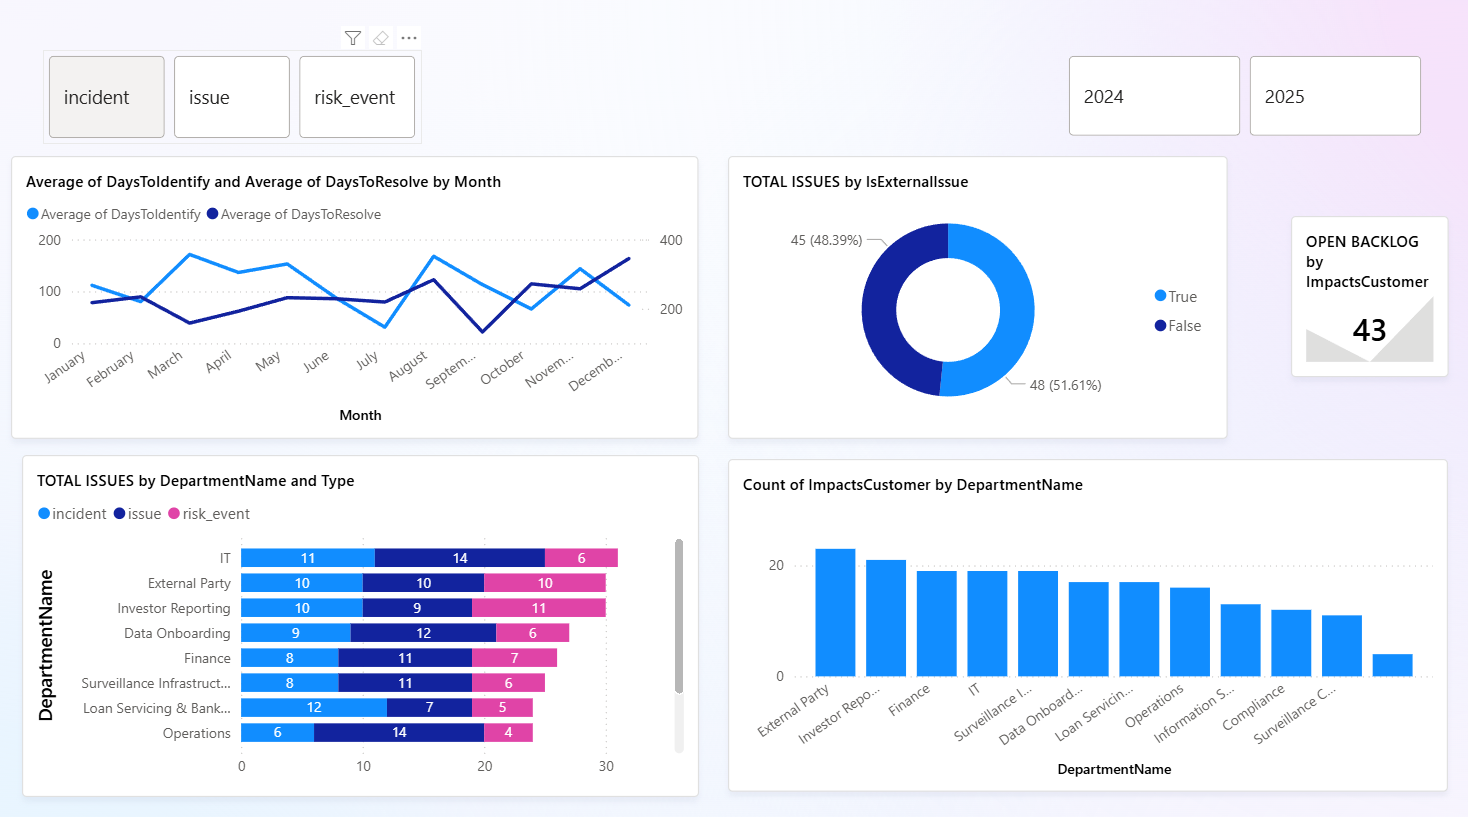

The page's visual inventory and layout, read from the dashboard file:
{"tool":"powerbi","page":{"name":"DEPARTMENTAL OVERVIEW","canvas":[1280,720],"ordinal":1},"visuals":[{"type":"lineChart","fields":{"Category":["fct_Issues.CreatedDate.Variation.Date Hierarchy.Month","fct_Issues.CreatedDate.Variation.Date Hierarchy.Day"],"Y":["Avg(fct_Issues.DaysToIdentify)"],"Y2":["Avg(fct_Issues.DaysToResolve)"]},"box":[11.6,137.9,592.8,243.6],"z":0},{"type":"donutChart","fields":{"Category":["fct_Issues.IsExternalIssue"],"Y":["Calendar.TOTAL ISSUES"]},"box":[629.6,137.9,430.7,243.6],"z":1000},{"type":"barChart","fields":{"Category":["bridge_Issue_Departments.DepartmentName"],"Y":["Calendar.TOTAL ISSUES"],"Series":["fct_Issues.Type"]},"box":[20.6,395.8,583.9,294.6],"z":2000},{"type":"lineStackedColumnComboChart","fields":{"Category":["bridge_Issue_Departments.DepartmentName"],"Y":["CountNonNull(fct_Issues.ImpactsCustomer)"]},"box":[629.6,399.4,621.5,287.5],"z":3000},{"type":"kpi","fields":{"Indicator":["Calendar.OPEN BACKLOG"],"TrendLine":["fct_Issues.ImpactsCustomer"]},"box":[1114.9,189.9,136.1,138.8],"z":4000},{"type":"advancedSlicerVisual","fields":{"Values":["fct_Issues.Type"]},"box":[38.5,46.6,326.9,81.5],"z":5000},{"type":"advancedSlicerVisual","fields":{"Values":["fct_Issues.CreatedDate.Variation.Date Hierarchy.Year"]},"box":[918.8,46.6,315.2,79.7],"z":6000}]}

Visuals, with their boxes in screenshot pixels (x1, y1, x2, y2), scaled from the page's 1280x720 canvas onto the 1468x817 screenshot:
lineChart - fct_Issues.CreatedDate.Variation.Date Hierarchy.Month x fct_Issues.CreatedDate.Variation.Date Hierarchy.Day: left=13, top=156, right=693, bottom=433
donutChart - fct_Issues.IsExternalIssue x Calendar.TOTAL ISSUES: left=722, top=156, right=1216, bottom=433
barChart - bridge_Issue_Departments.DepartmentName x Calendar.TOTAL ISSUES: left=24, top=449, right=693, bottom=783
lineStackedColumnComboChart - bridge_Issue_Departments.DepartmentName x CountNonNull(fct_Issues.ImpactsCustomer): left=722, top=453, right=1435, bottom=779
kpi - Calendar.OPEN BACKLOG x fct_Issues.ImpactsCustomer: left=1279, top=215, right=1435, bottom=373
advancedSlicerVisual - fct_Issues.Type: left=44, top=53, right=419, bottom=145
advancedSlicerVisual - fct_Issues.CreatedDate.Variation.Date Hierarchy.Year: left=1054, top=53, right=1415, bottom=143
